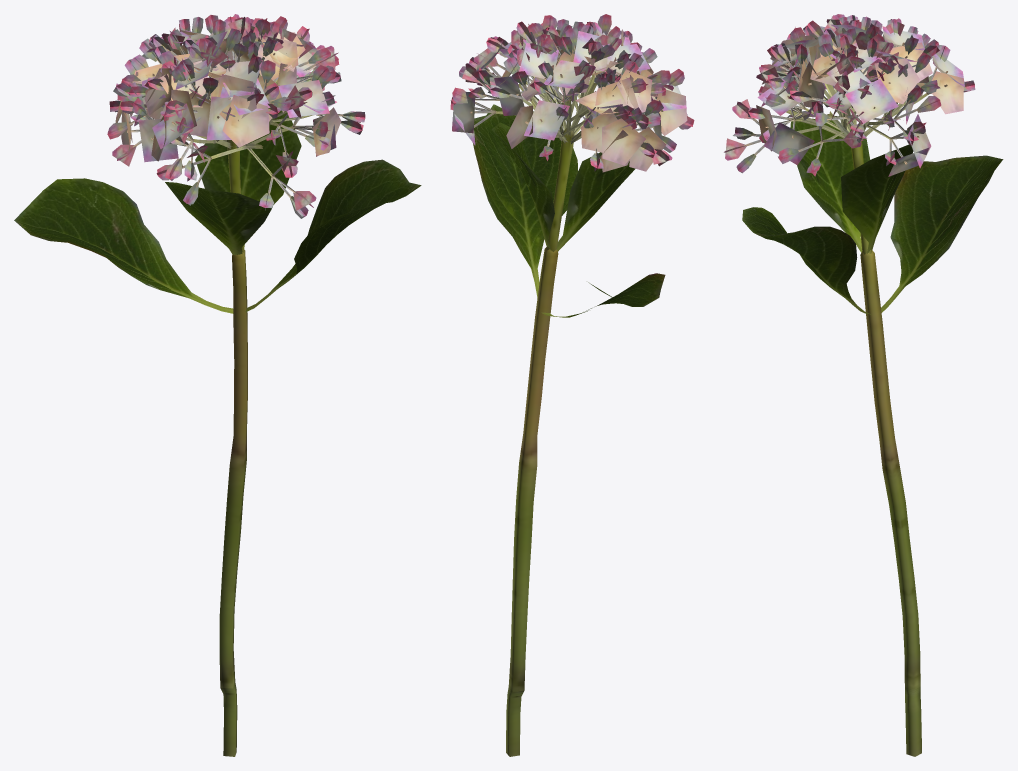
The model's file is Hydrangea_baby_short_red.glb.
3 views of the same model, side by side, from view 1: azimuth 30°, elevation 25°; view 2: azimuth 150°, elevation 25°; view 3: azimuth 270°, elevation 25° (orthographic). The views are drawn at different scales.
Parts seen in each view (by area): view 1: BABY; view 2: BABY; view 3: BABY.
Boxes of the visible parts, x1=… form: BABY: x1=14, y1=14, x2=421, y2=756; BABY: x1=450, y1=14, x2=694, y2=756; BABY: x1=724, y1=14, x2=1003, y2=756.
Size of the model in its own units: 0.7928 by 2.03 by 0.7195.
1 material, 1 textured.
